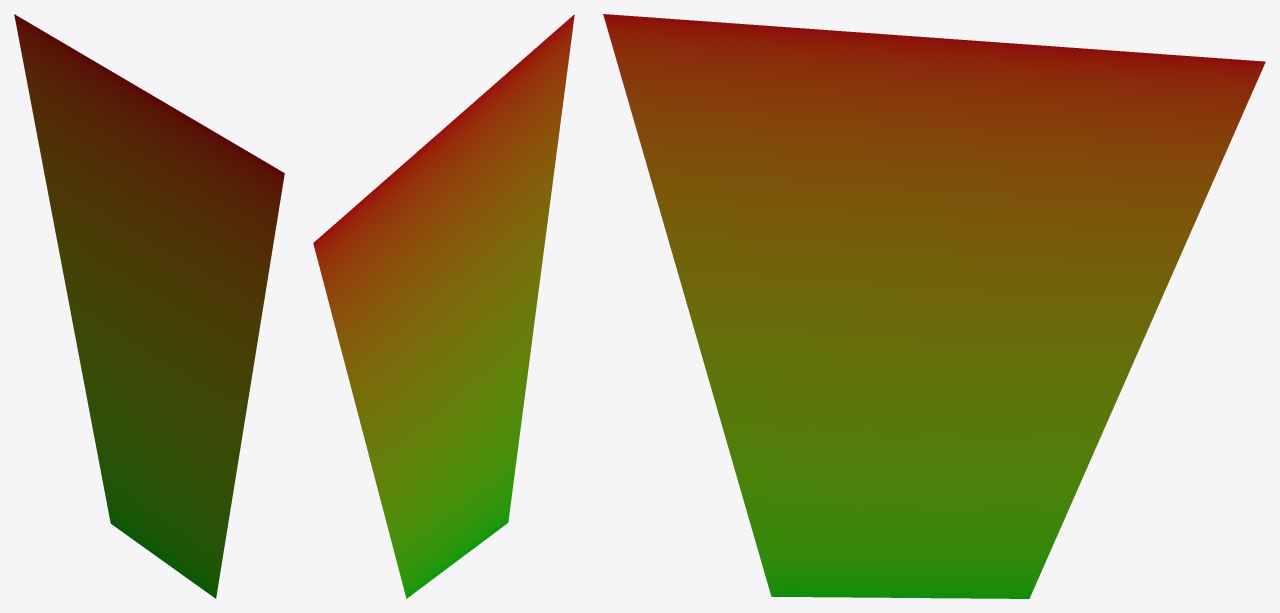
The model's file is Rush Daffodil_LOD7_Var3_wftgfjaia.fbx.
3 renders of one model, left to right at view 1: azimuth 30°, elevation 25°; view 2: azimuth 150°, elevation 25°; view 3: azimuth 270°, elevation 25°, orthographic. The views are drawn at different scales.
Parts seen in each view (by area): view 1: _or9u_var3_LOD7; view 2: _or9u_var3_LOD7; view 3: _or9u_var3_LOD7.
Boxes of the visible parts, <box> form: _or9u_var3_LOD7: <box>14,14,284,598</box>; _or9u_var3_LOD7: <box>313,14,574,598</box>; _or9u_var3_LOD7: <box>603,14,1265,598</box>.
Bounding box in the file's own units: 0 × 38.23 × 39.25.
